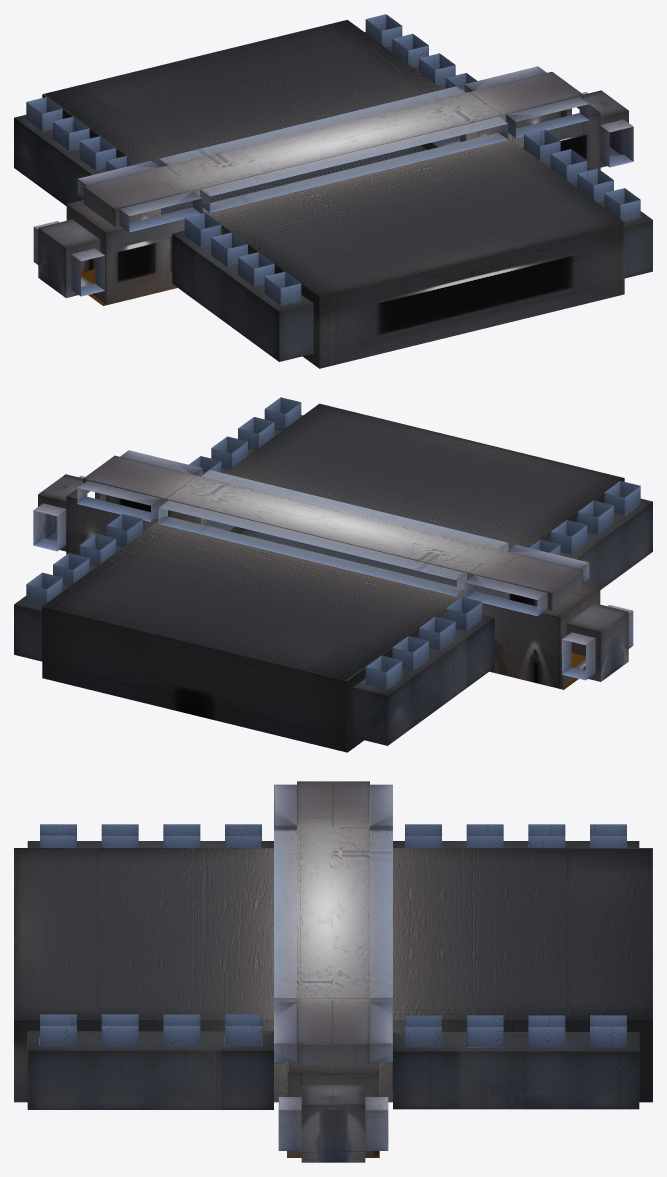
File: main-museum.glb
The picture shows the model from 3 angles, top to bottom: view 1: azimuth 30°, elevation 25°; view 2: azimuth 150°, elevation 25°; view 3: azimuth 270°, elevation 25°; orthographic projection. The views are drawn at different scales.
Visible parts, largest first — view 1: hall_low_Cube; view 2: hall_low_Cube; view 3: hall_low_Cube.
Boxes of the visible parts, x1,y1,x2,y2 form: hall_low_Cube: (14,14,652,368); hall_low_Cube: (14,397,652,752); hall_low_Cube: (14,781,652,1162).
Bounding box in the file's own units: 32.84 × 5 × 28.
Materials: 2 (2 with a texture image).
